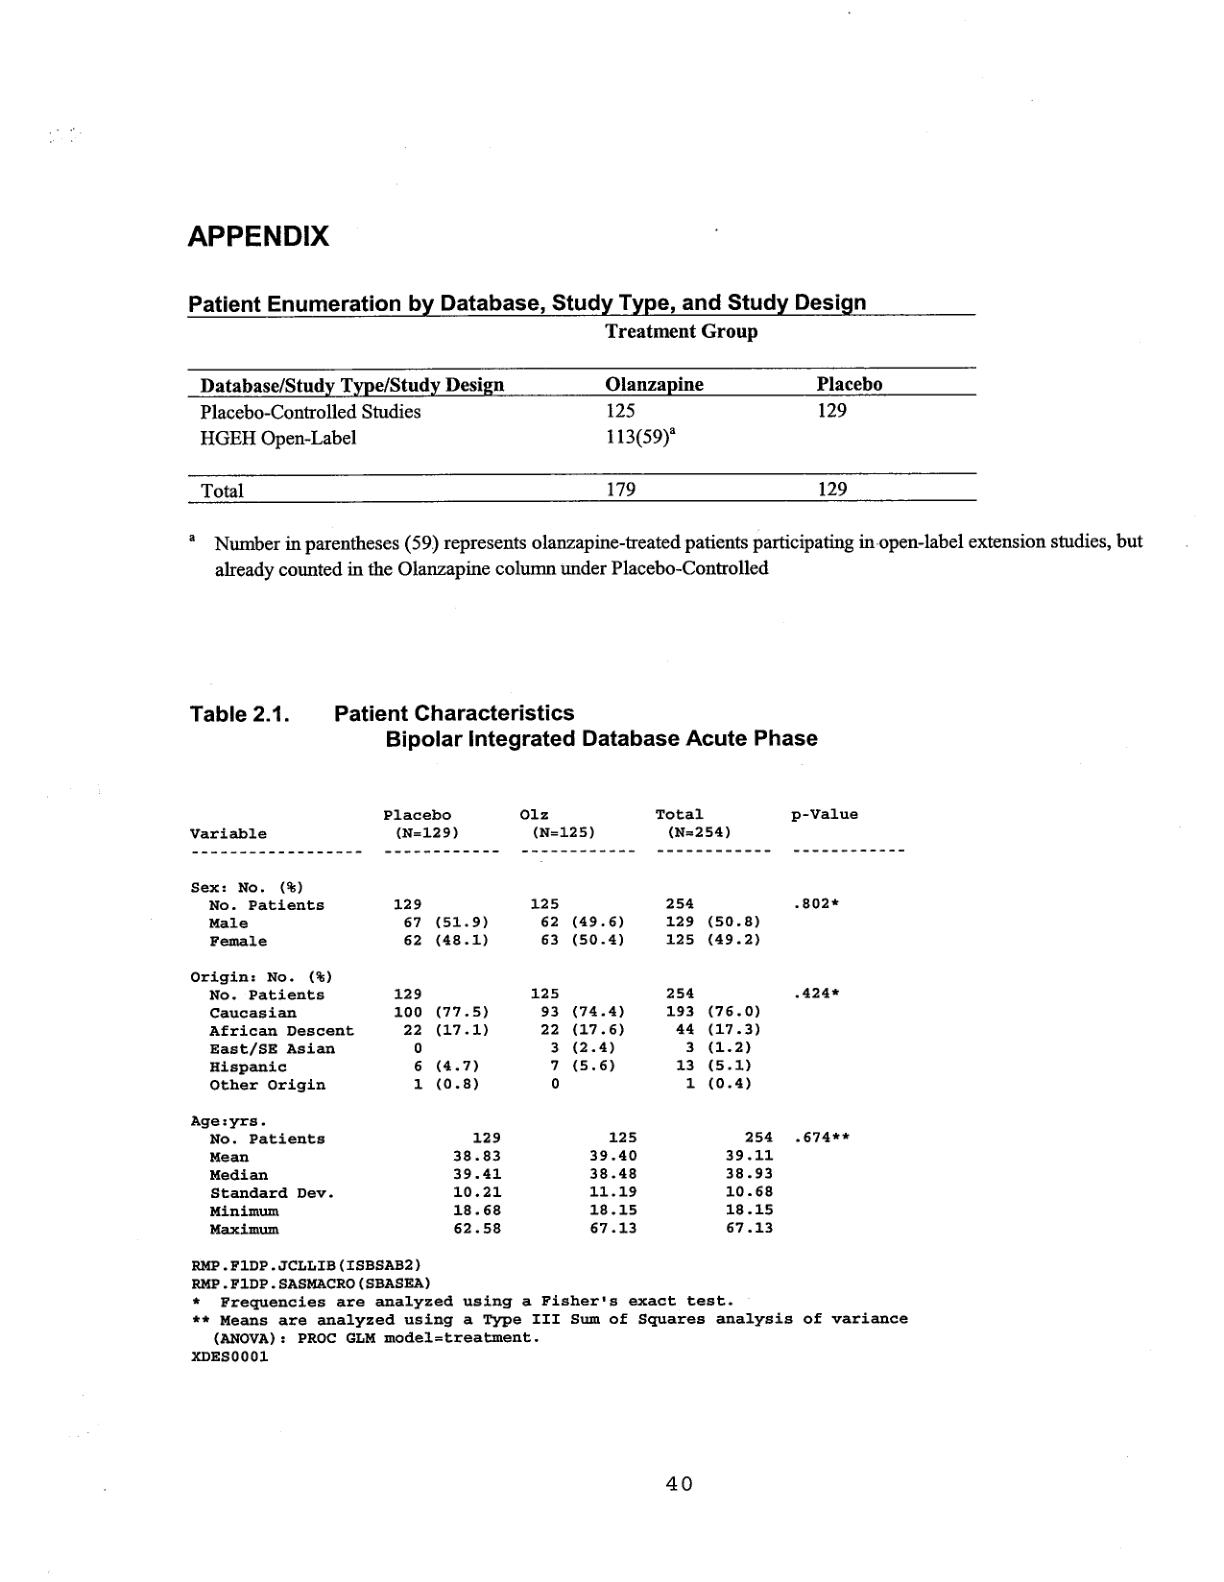nolines: (188, 805, 905, 1238)
partial_lined: (185, 313, 977, 503)
